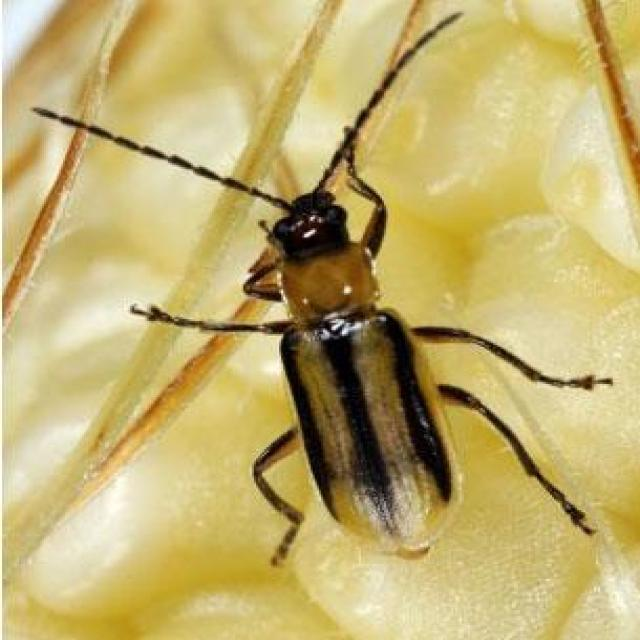trips: (21, 73, 640, 562)
